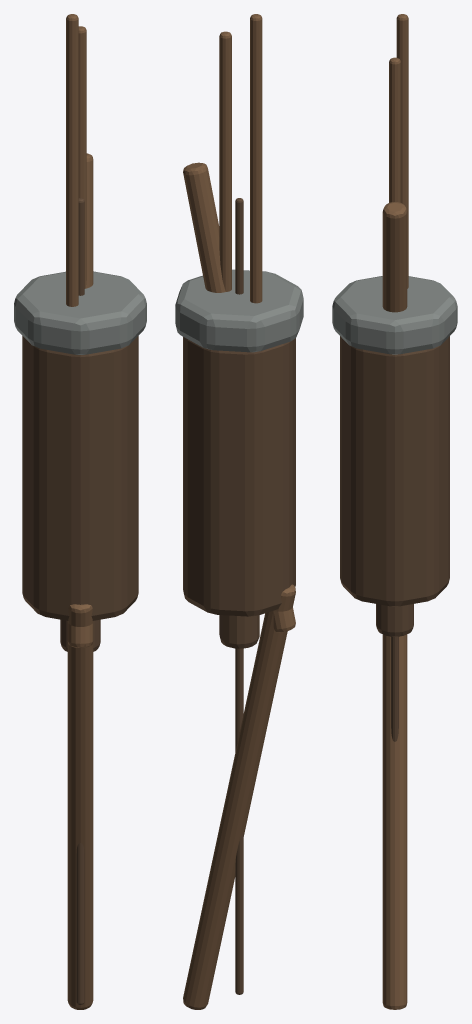
The model's file is barrosan_crag_archer_accessories.glb.
3 views of the same model, side by side, from view 1: azimuth 90°, elevation 25°; view 2: azimuth 150°, elevation 25°; view 3: azimuth 270°, elevation 25° (orthographic). The views are drawn at different scales.
Parts seen in each view (by area): view 1: QuiverQuiverBody, BowBowLower, QuiverQuiverCap, QuiverArrowB, BowBowString, QuiverArrowA, BowBowUpper, BowBowGrip; view 2: QuiverQuiverBody, BowBowLower, QuiverQuiverCap, QuiverArrowB, BowBowUpper, QuiverArrowA, BowBowString, BowBowGrip; view 3: QuiverQuiverBody, BowBowLower, QuiverQuiverCap, BowBowUpper, QuiverArrowB, QuiverArrowA, BowBowGrip, BowBowString.
Boxes of the visible parts, left/top/right/bottom form: QuiverQuiverBody: left=22, top=336, right=138, bottom=620; BowBowLower: left=67, top=604, right=93, bottom=1009; QuiverQuiverCap: left=14, top=271, right=146, bottom=354; QuiverArrowB: left=66, top=14, right=78, bottom=306; BowBowString: left=76, top=198, right=84, bottom=1004; QuiverArrowA: left=78, top=26, right=86, bottom=288; BowBowUpper: left=67, top=153, right=93, bottom=647; BowBowGrip: left=60, top=619, right=100, bottom=651; QuiverQuiverBody: left=183, top=337, right=295, bottom=616; BowBowLower: left=183, top=584, right=295, bottom=1009; QuiverQuiverCap: left=175, top=269, right=303, bottom=352; QuiverArrowB: left=250, top=14, right=262, bottom=303; BowBowUpper: left=183, top=162, right=295, bottom=632; QuiverArrowA: left=219, top=31, right=231, bottom=291; BowBowString: left=235, top=198, right=243, bottom=994; BowBowGrip: left=219, top=615, right=259, bottom=648; QuiverQuiverBody: left=340, top=336, right=449, bottom=606; BowBowLower: left=382, top=634, right=407, bottom=1009; QuiverQuiverCap: left=332, top=276, right=457, bottom=354; BowBowUpper: left=382, top=202, right=407, bottom=312; QuiverArrowB: left=396, top=14, right=408, bottom=288; QuiverArrowA: left=389, top=57, right=400, bottom=202; BowBowGrip: left=376, top=604, right=413, bottom=636; BowBowString: left=391, top=636, right=398, bottom=741.
Bounding box in the file's own units: 0.3288 × 2.8 × 0.3288.
